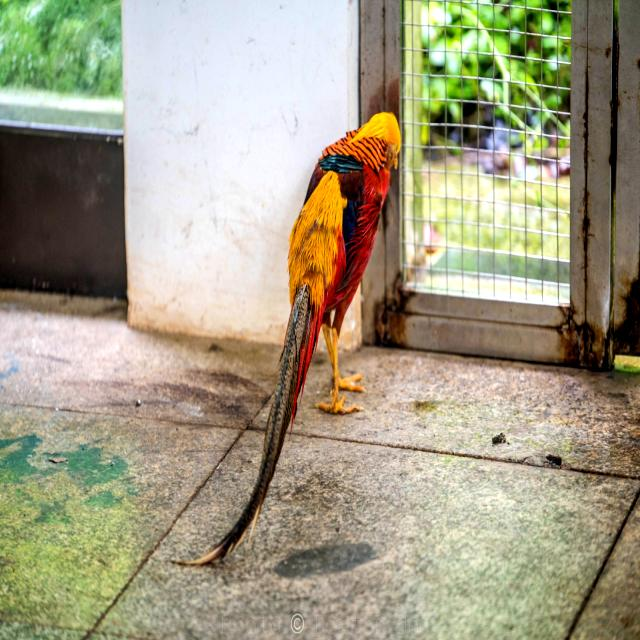Chrysolophus pictus feather: (177, 285, 314, 564)
